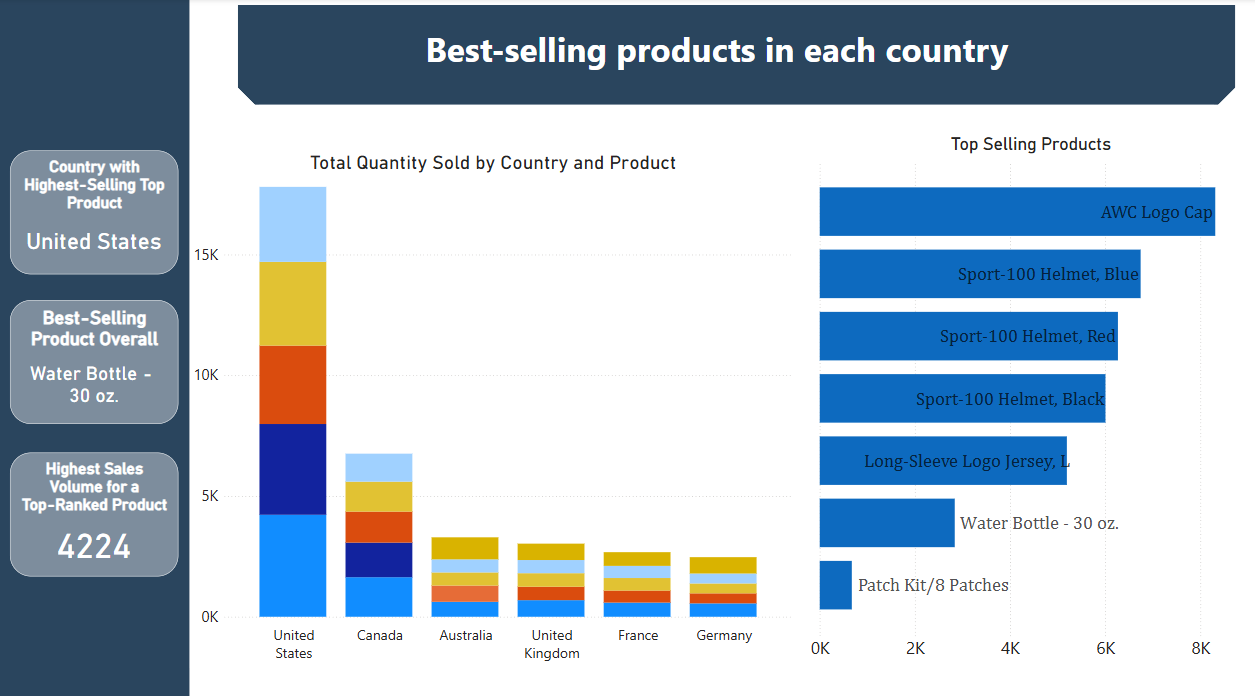

This screenshot's page, from the dashboard's own definition file:
{"tool":"powerbi","page":{"name":"Top 5 best-selling products in each country ","canvas":[1280,720],"ordinal":4},"visuals":[{"type":"columnChart","title":"Total Quantity Sold by Country and Product","fields":{"Category":["Top 5 best-selling products in each country clean.Country"],"Series":["Top 5 best-selling products in each country clean.ProductName"],"Y":["Sum(Top 5 best-selling products in each country clean.TotalQuantity)"]},"box":[648.6,261.8,631,458.9],"z":0},{"type":"clusteredBarChart","title":" Top Selling Products","fields":{"Y":["Sum(Top 5 best-selling products in each country clean.TotalQuantity)"],"Category":["Top 5 best-selling products in each country clean.ProductName"]},"box":[11.8,261.8,589.8,444.2],"z":1000},{"type":"card","title":" Highest Sales Volume for a Top-Ranked Product","fields":{"Values":["Top 5 best-selling products in each country clean.TopCountry"]},"box":[35.3,108.8,344.2,120.6],"z":2000},{"type":"card","title":" Best-Selling Product Overall","fields":{"Values":["Top 5 best-selling products in each country clean.TopProduct"]},"box":[895.7,108.8,348.6,120.6],"z":3000},{"type":"textbox","box":[0,14.7,907.5,94.1],"z":5000},{"type":"card","title":" Country with Highest-Selling Top Product","fields":{"Values":["Top 5 best-selling products in each country clean.TopSellingCountry"]},"box":[411.8,108.8,454.5,120.6],"z":5001}]}

Visuals, with their boxes in screenshot pixels (x1, y1, x2, y2), scaled from the page's 1280x720 canvas onto the 1255x696 screenshot:
"Total Quantity Sold by Country and Product" columnChart: [x1=636, y1=253, x2=1254, y2=695]
" Top Selling Products" clusteredBarChart: [x1=12, y1=253, x2=590, y2=682]
" Highest Sales Volume for a Top-Ranked Product" card: [x1=35, y1=105, x2=372, y2=222]
" Best-Selling Product Overall" card: [x1=878, y1=105, x2=1220, y2=222]
textbox: [x1=0, y1=14, x2=890, y2=105]
" Country with Highest-Selling Top Product" card: [x1=404, y1=105, x2=849, y2=222]
